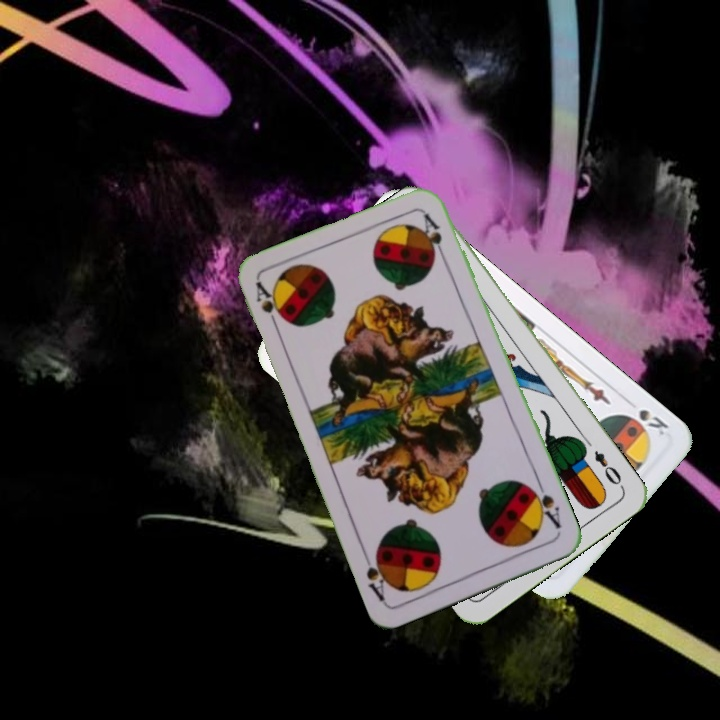EO: (590, 446, 627, 491)
SA: (251, 278, 288, 335), (525, 478, 564, 532)
SK: (620, 405, 671, 439)
